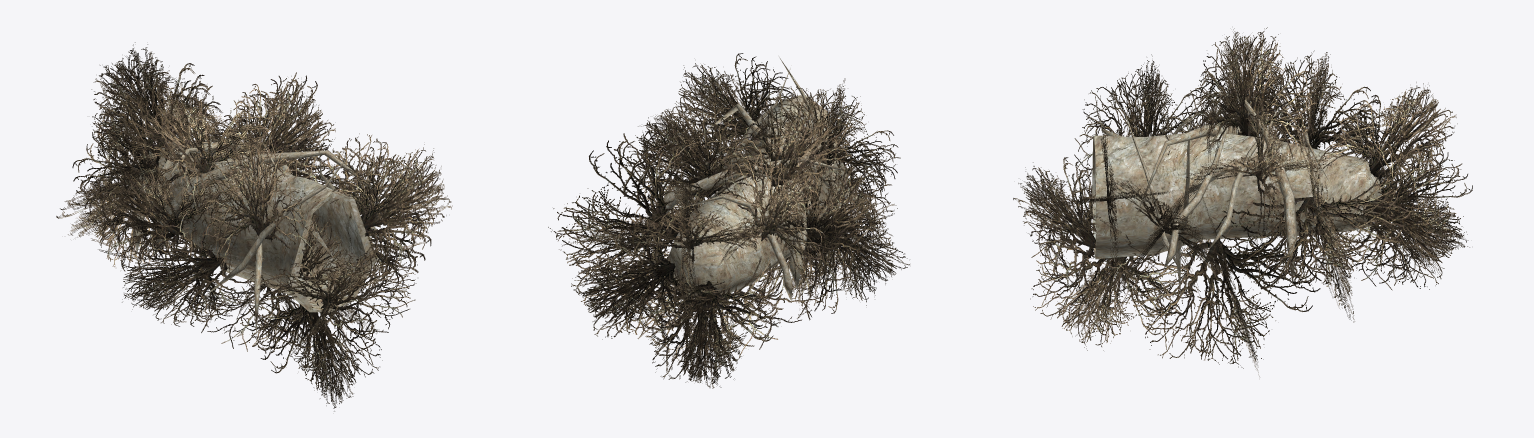
Rendered from poi_all_lair_bramble_light_large_l0.fbx.
3 renders of one model, left to right at view 1: azimuth 30°, elevation 25°; view 2: azimuth 150°, elevation 25°; view 3: azimuth 270°, elevation 25°, orthographic. The views are drawn at different scales.
Visible parts, largest first — view 1: mesh_node; view 2: mesh_node; view 3: mesh_node.
Part boxes in pixels (<box>): mesh_node: <box>56,42,452,411</box>; mesh_node: <box>548,53,909,388</box>; mesh_node: <box>1013,27,1472,376</box>.
Bounding box in the file's own units: 6.19 × 6.01 × 8.38.
